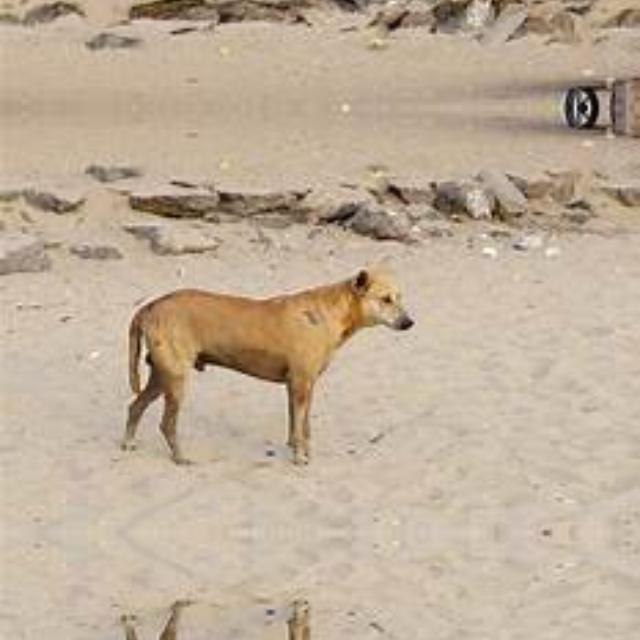dog: (102, 247, 436, 517), (102, 548, 435, 640)
